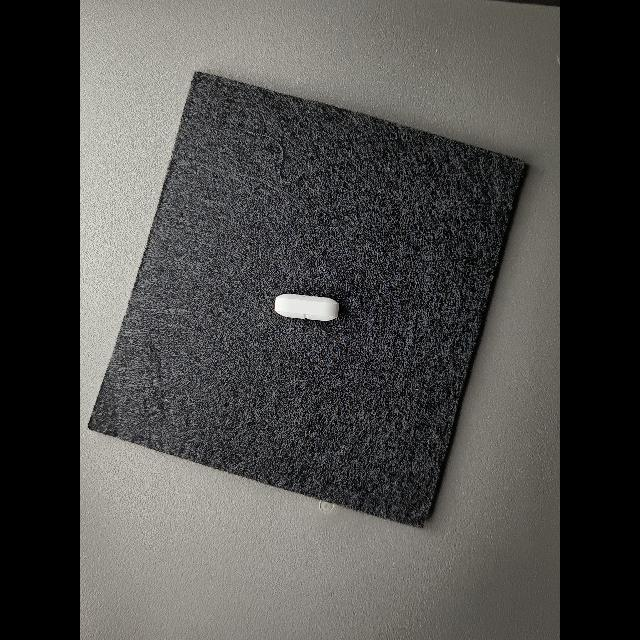Intact Pill: (274, 293, 339, 321)
